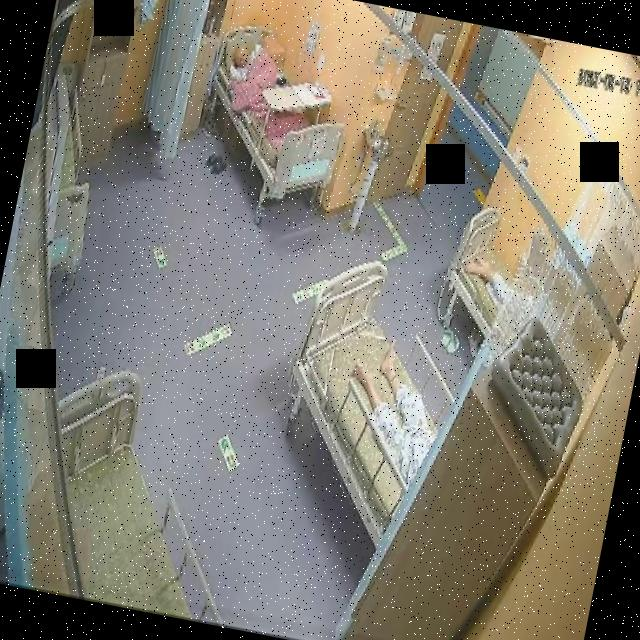bed: (22, 361, 266, 627), (262, 250, 469, 550), (188, 18, 362, 210), (439, 200, 526, 342)
lie: (334, 329, 454, 487)
patient: (336, 327, 456, 485), (226, 37, 268, 86)
